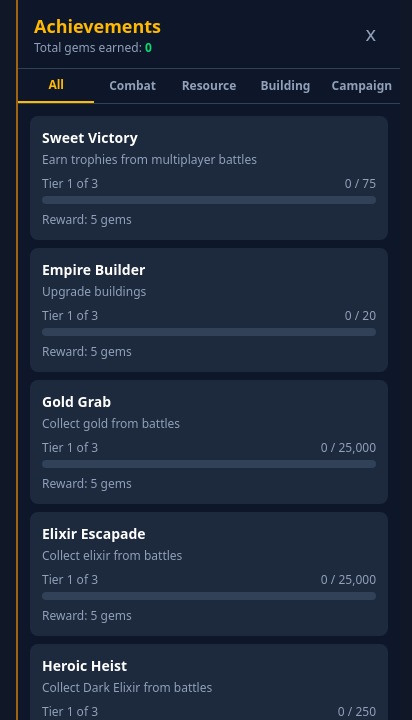
it: AchievementPanel › filters achievements when a category tab is clicked
This screenshot has width=412, height=720.
# Click the "Combat" tab
Click the button "Combat". click: {"x": 133, "y": 86}
box: [94,69,171,103]
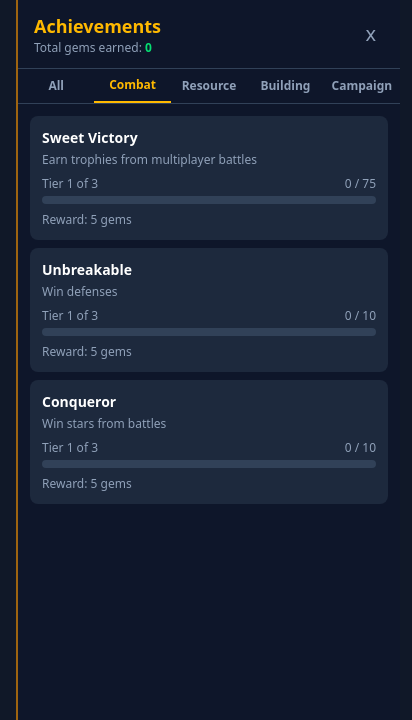
expect the text "Sweet Victory" is shown: met, box [42,128,138,148]
expect the text "Empire Builder" is gone: met
